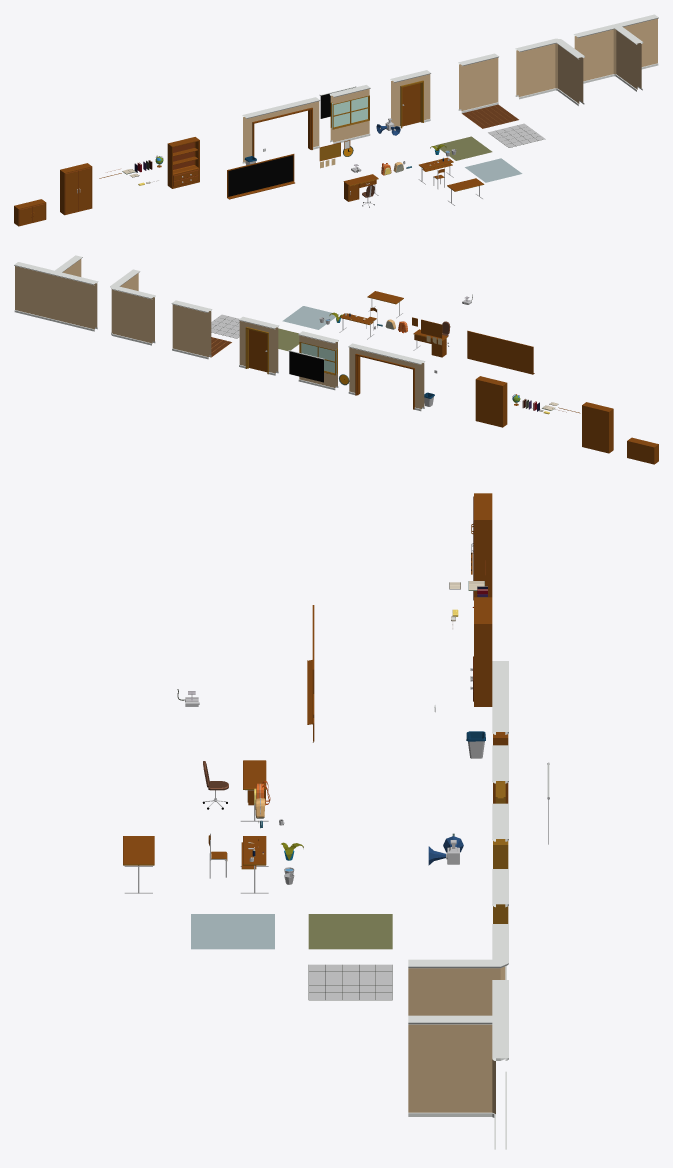
Rendered from ClassRoom_New.fbx.
3 views of the same model, one above another, from view 1: azimuth 30°, elevation 25°; view 2: azimuth 150°, elevation 25°; view 3: azimuth 270°, elevation 25° (orthographic). The views are drawn at different scales.
Parts seen in each view (by area): view 1: Wall_T, Wall_Corner, Wall, Wall_Window, Board, Wall_BigDoor, Shelf_01, Wall_Door, Floor_02, Floor_04, Floor_01, Floor_03 (+7 smaller); view 2: Wall_T, Wall_Corner, Wall, Board, Wall_BigDoor, Shelf_01, Shelf_2, Wall_Window, Wall_Door, Bat, Door, Floor_04 (+4 smaller); view 3: Wall_T, Wall_Corner, Floor_02, Floor_03, Floor_04, Shelf_01, Shelf_2, Wall_BigDoor, Wall_Door, Cantine_Desk.
Part boxes in pixels (bbox=[...]): Wall_T: bbox=[573, 14, 658, 91]; Wall_Corner: bbox=[515, 38, 584, 105]; Wall: bbox=[458, 53, 498, 113]; Wall_Window: bbox=[329, 85, 370, 143]; Board: bbox=[227, 154, 294, 199]; Wall_BigDoor: bbox=[242, 97, 319, 163]; Shelf_01: bbox=[167, 137, 199, 188]; Wall_Door: bbox=[390, 70, 431, 128]; Floor_02: bbox=[488, 123, 545, 147]; Floor_04: bbox=[465, 158, 522, 182]; Floor_01: bbox=[462, 104, 518, 128]; Floor_03: bbox=[435, 136, 492, 160]; Wall_T: bbox=[14, 255, 98, 331]; Wall_Corner: bbox=[110, 269, 155, 345]; Wall: bbox=[171, 300, 212, 359]; Board: bbox=[467, 330, 534, 374]; Wall_BigDoor: bbox=[348, 343, 424, 411]; Shelf_01: bbox=[475, 376, 507, 427]; Shelf_2: bbox=[582, 402, 613, 453]; Wall_Window: bbox=[298, 331, 338, 390]; Wall_Door: bbox=[239, 316, 279, 375]; Bat: bbox=[289, 351, 323, 382]; Door: bbox=[249, 329, 267, 372]; Floor_04: bbox=[282, 306, 338, 329]; Wall_T: bbox=[408, 980, 508, 1149]; Wall_Corner: bbox=[408, 924, 508, 1060]; Floor_02: bbox=[308, 964, 392, 1000]; Floor_03: bbox=[308, 914, 392, 949]; Floor_04: bbox=[191, 914, 274, 949]; Shelf_01: bbox=[470, 597, 492, 706]; Shelf_2: bbox=[474, 493, 492, 597]; Wall_BigDoor: bbox=[492, 661, 508, 803]; Wall_Door: bbox=[492, 803, 508, 923]; Cantine_Desk: bbox=[123, 836, 154, 893].
Size of the model in its own units: 3497 by 287 by 1017.
1 material, 1 textured.
